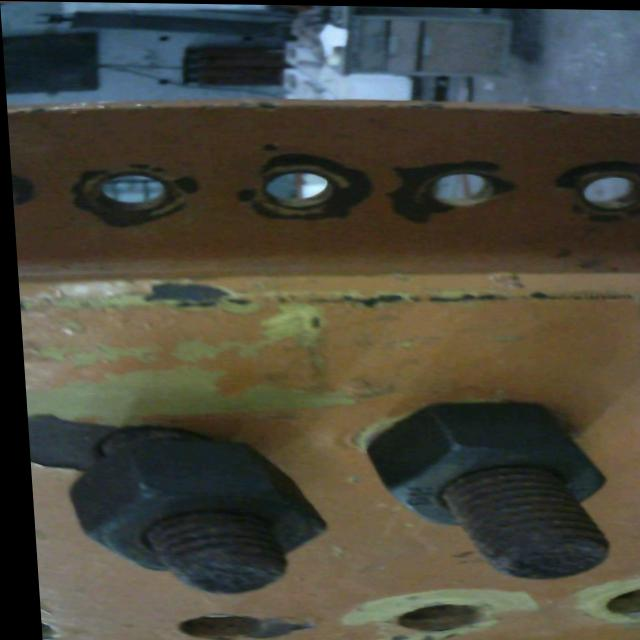Loose bolt: (65, 426, 338, 597)
Missing bolt: (248, 165, 335, 210), (380, 600, 476, 636), (85, 170, 169, 210), (576, 169, 640, 209), (424, 170, 493, 207), (164, 612, 255, 640), (590, 583, 640, 615)
Rusty bolt: (62, 424, 328, 603), (356, 390, 607, 579)
